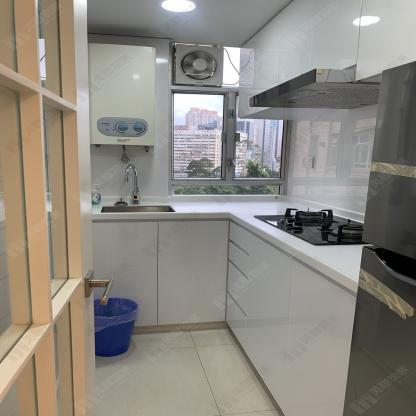Cupboard: (90, 223, 361, 410), (237, 0, 416, 119)
Exhaust Fan: (176, 45, 224, 86)
Exhaust Hood: (246, 67, 380, 108)
Faucet: (120, 162, 151, 204)
Fridge: (341, 64, 416, 412)
Sink: (100, 204, 177, 213)
Stove: (251, 206, 368, 244)
